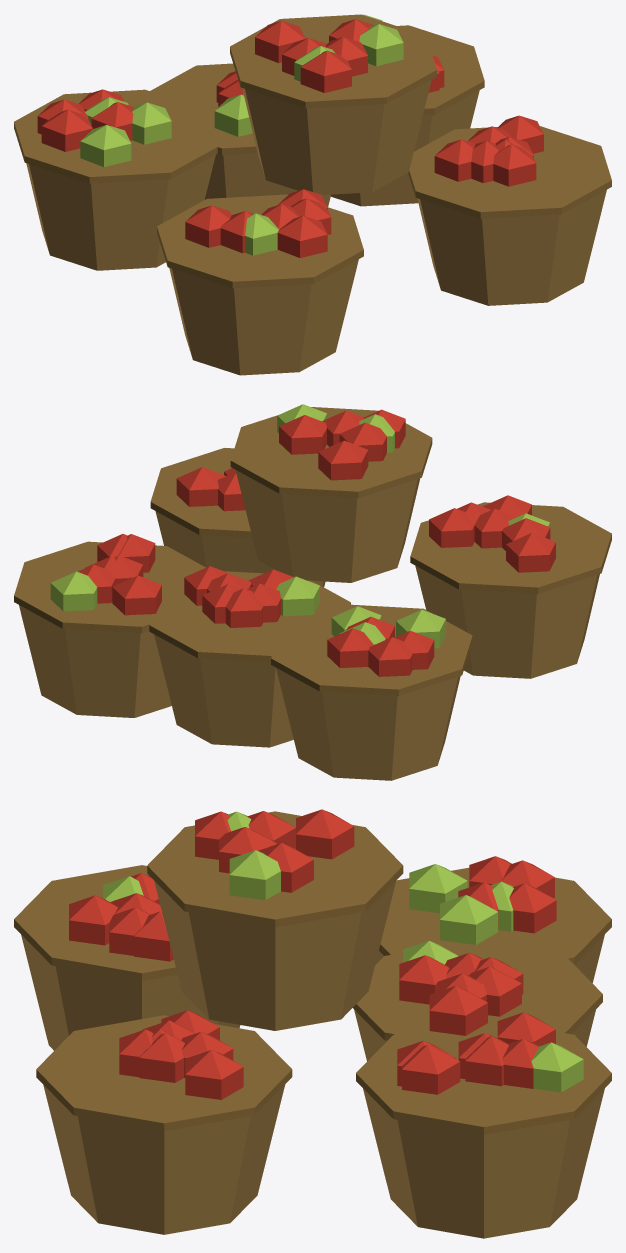
Rendered from pile_fruit_3.glb.
The picture shows the model from 3 angles, top to bottom: view 1: azimuth 30°, elevation 25°; view 2: azimuth 150°, elevation 25°; view 3: azimuth 270°, elevation 25°; orthographic projection. The views are drawn at different scales.
Parts seen in each view (by area): view 1: pile_fruit_3; view 2: pile_fruit_3; view 3: pile_fruit_3.
Part boxes in pixels (x1,y1,x2,y2): pile_fruit_3: (14,14,611,375); pile_fruit_3: (14,404,611,780); pile_fruit_3: (14,809,611,1238).
Size of the model in its own units: 1.4 by 0.726 by 1.35.
